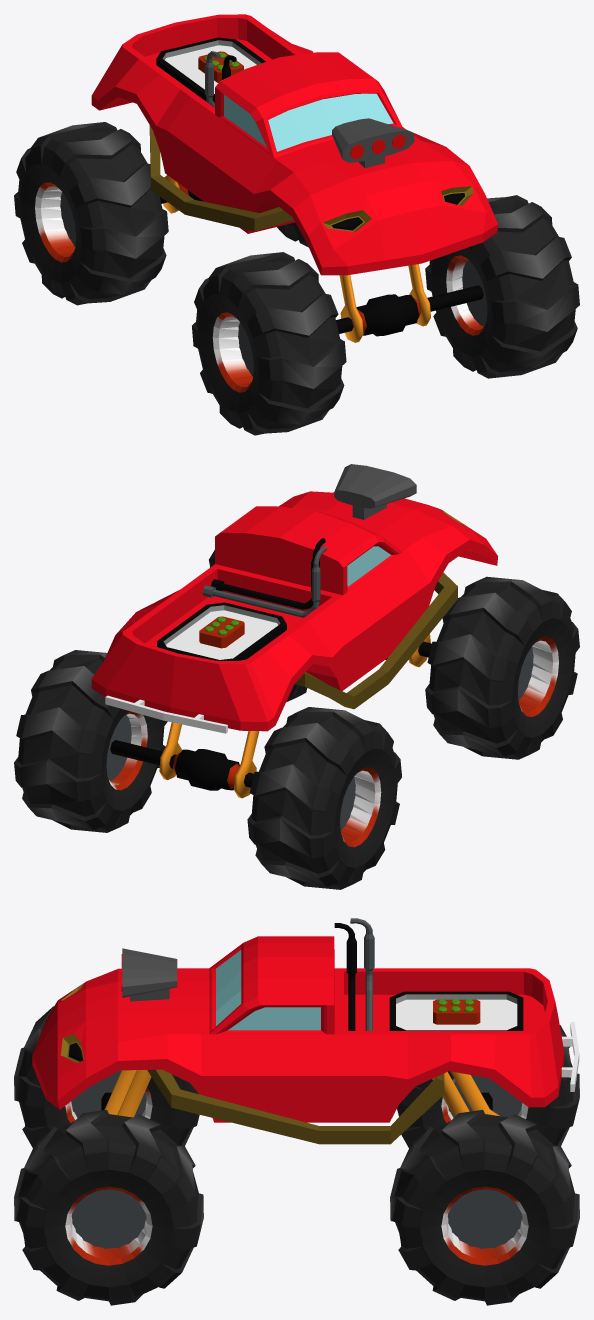
Rendered from Red Car.fbx.
3 views of the same model, one above another, from view 1: azimuth 30°, elevation 25°; view 2: azimuth 150°, elevation 25°; view 3: azimuth 270°, elevation 25° (orthographic). The views are drawn at different scales.
Parts seen in each view (by area): view 1: Wheel_FR.043; view 2: Wheel_FR.043; view 3: Wheel_FR.043.
Boxes of the visible parts, x1,y1,x2,y2 form: Wheel_FR.043: (14,14,579,435); Wheel_FR.043: (14,464,579,889); Wheel_FR.043: (14,918,579,1305).
Size of the model in its own units: 485 by 401 by 715.
Materials: 3 (1 with a texture image).
